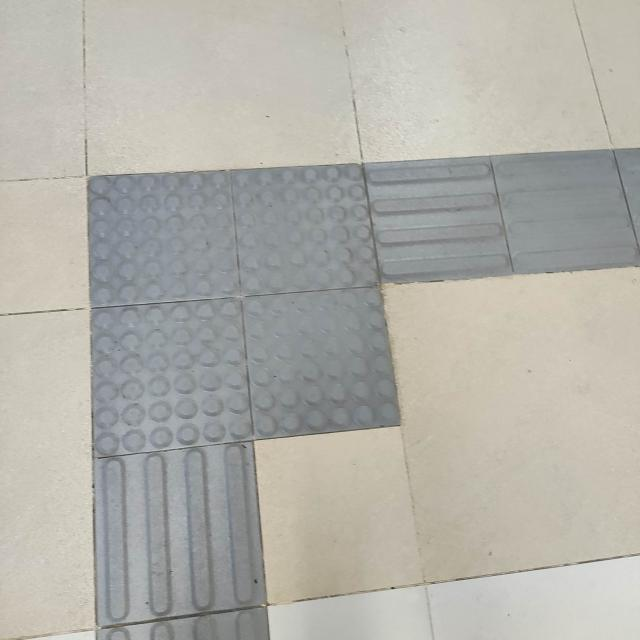kanan: (26, 133, 640, 481)
